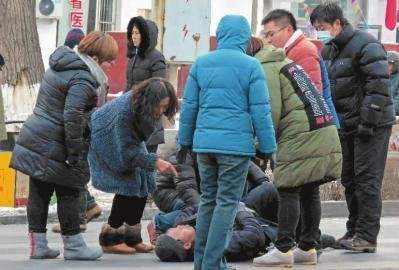falling: (139, 179, 301, 263)
